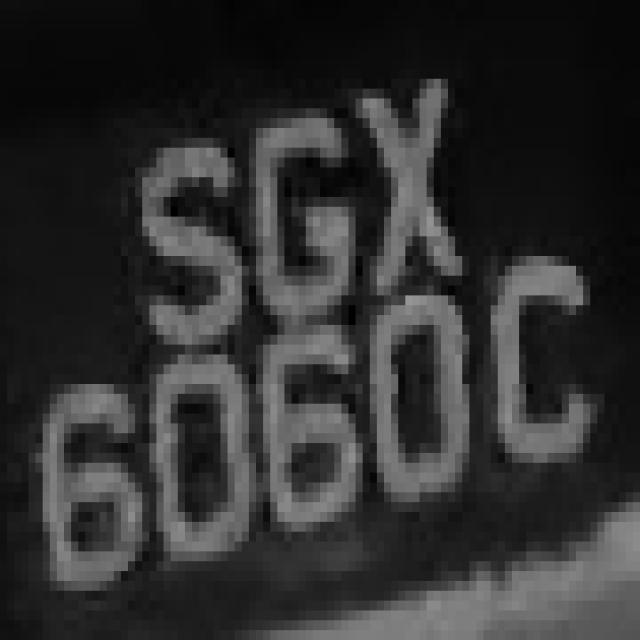0: (363, 266, 469, 522), (142, 335, 242, 591)
6: (21, 354, 142, 620), (249, 305, 370, 542)
C: (491, 227, 590, 502)
G: (235, 88, 341, 354)
S: (121, 138, 235, 344)
X: (334, 59, 470, 276)
